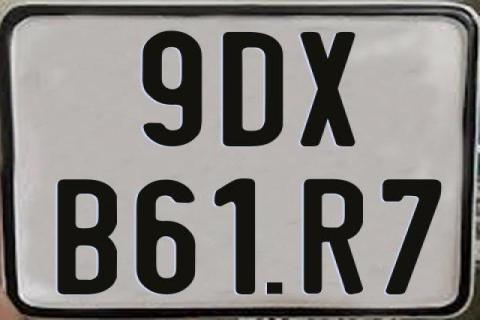0: (134, 178, 198, 296), (382, 178, 446, 294), (141, 30, 202, 148), (214, 178, 256, 298)
B: (56, 178, 116, 296)
D: (221, 31, 287, 147)
R: (303, 178, 368, 294)
X: (299, 30, 357, 148)
